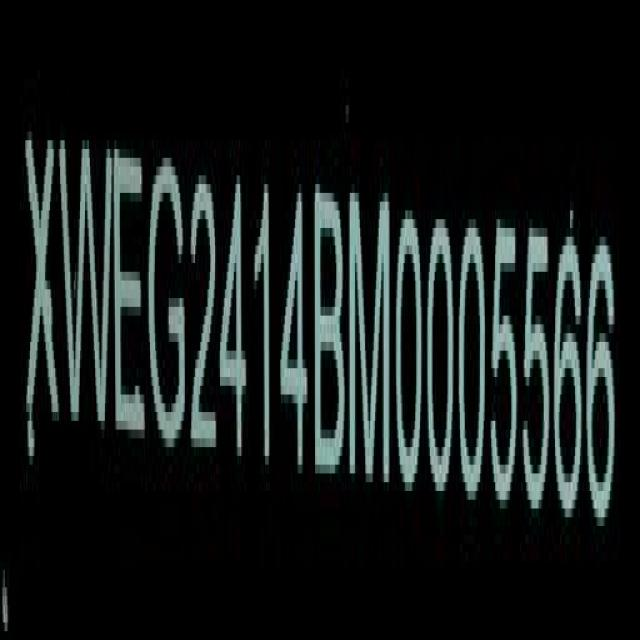0: (425, 205, 455, 509), (455, 219, 486, 505), (394, 205, 424, 483)
1: (254, 172, 276, 489)
2: (188, 166, 216, 470)
4: (218, 166, 249, 479), (277, 184, 307, 492)
5: (488, 215, 519, 523), (521, 230, 549, 510)
6: (583, 250, 615, 536), (553, 243, 584, 522)
B: (312, 159, 344, 492)
E: (110, 134, 149, 457)
G: (147, 135, 188, 439)
M: (346, 166, 393, 492)
W: (59, 100, 112, 466)
X: (24, 120, 60, 440)
